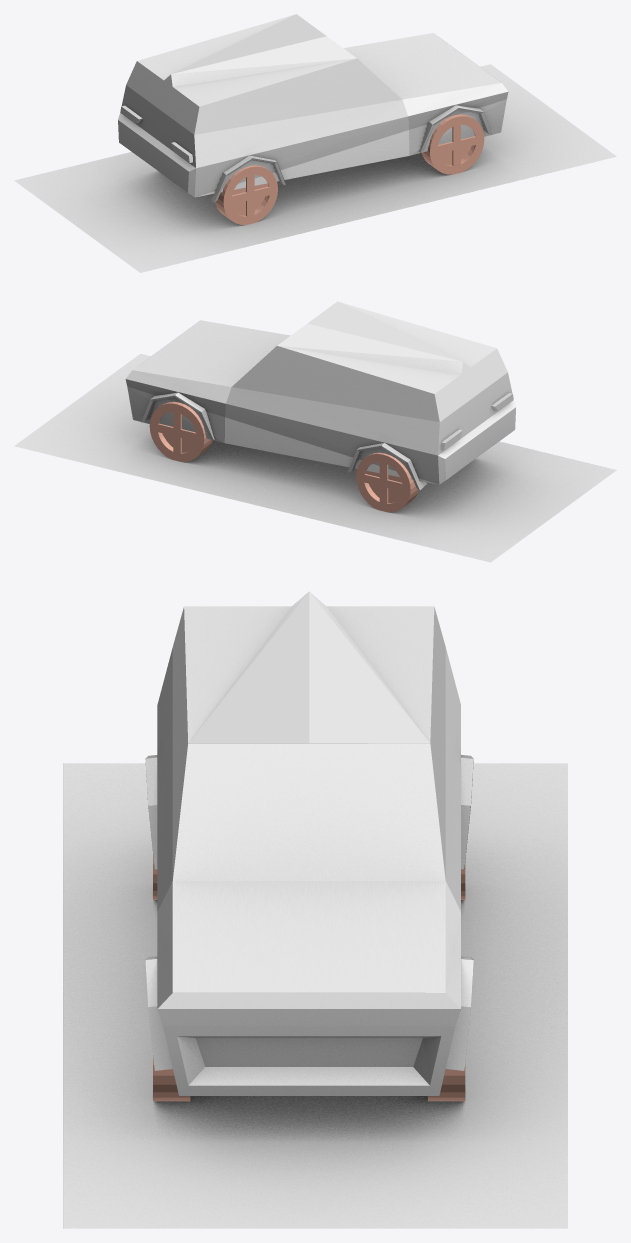
File: TestCarV9.gltf
3 views of the same model, one above another, from view 1: azimuth 30°, elevation 25°; view 2: azimuth 150°, elevation 25°; view 3: azimuth 270°, elevation 25° (orthographic). The views are drawn at different scales.
Visible parts, largest first — view 1: body, Plane, wheel_RR, wheel_FR, lights_rear; view 2: body, Plane, wheel_RL, wheel_FL, lights_rear; view 3: body, Plane, wheel_FL, wheel_FR.
Boxes of the visible parts, x1,y1,x2,y2 form: body: (118, 14, 508, 202); Plane: (14, 64, 616, 272); wheel_RR: (215, 165, 277, 224); wheel_FR: (422, 114, 484, 174); lights_rear: (120, 105, 192, 162); body: (125, 301, 515, 490); Plane: (14, 354, 616, 562); wheel_RL: (356, 452, 418, 512); wheel_FL: (149, 401, 212, 462); lights_rear: (441, 393, 513, 450); body: (145, 591, 473, 1095); Plane: (63, 763, 567, 1228); wheel_FL: (428, 1064, 465, 1101); wheel_FR: (153, 1055, 190, 1101).
Size of the model in its own units: 5.83 by 1.54 by 2.67.
3 materials, 2 textured.
